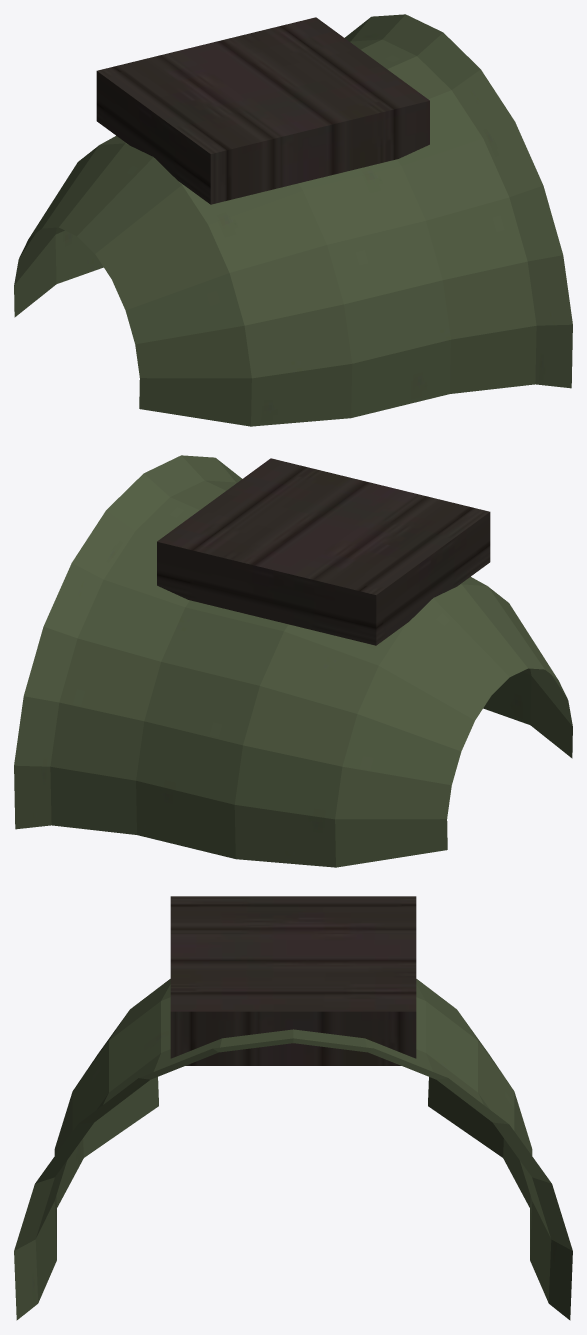
Rendered from eq_present_1_shoulder.glb.
3 views of the same model, one above another, from view 1: azimuth 30°, elevation 25°; view 2: azimuth 150°, elevation 25°; view 3: azimuth 270°, elevation 25° (orthographic). The views are drawn at different scales.
Parts seen in each view (by area): view 1: eq_present_1_shoulder; view 2: eq_present_1_shoulder; view 3: eq_present_1_shoulder.
Boxes of the visible parts, box(x1,y1,x2,y2) form: eq_present_1_shoulder: box(14, 14, 572, 426); eq_present_1_shoulder: box(14, 455, 572, 867); eq_present_1_shoulder: box(14, 896, 572, 1320).
Bounding box in the file's own units: 0.167 × 0.1141 × 0.2047.
2 materials, 2 textured.
